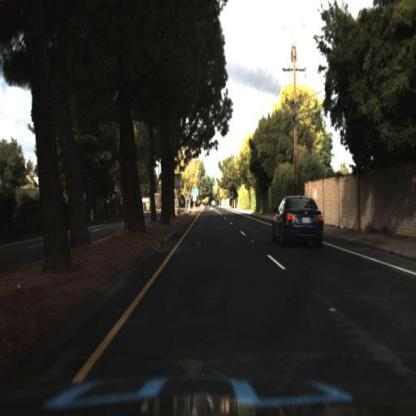car: (270, 196, 326, 254)
